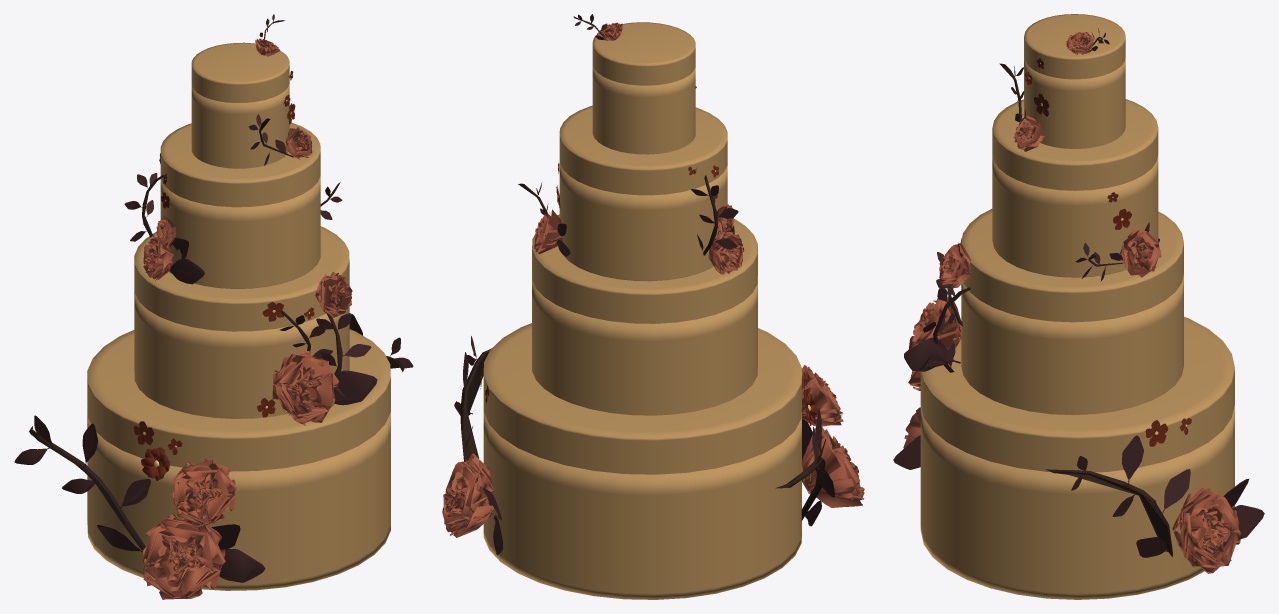
The model's file is 4-tier-caramel-roses-none.glb.
3 renders of one model, left to right at view 1: azimuth 30°, elevation 25°; view 2: azimuth 150°, elevation 25°; view 3: azimuth 270°, elevation 25°, orthographic. The views are drawn at different scales.
Visible parts, largest first — view 1: 3.001, 3, 2, 1, grid.013, Plane.024, grid.016, grid.012, grid.015, Plane.009, Plane.022, Plane.042 (+7 smaller); view 2: 3.001, 3, 2, 1, grid.020, grid.013, Plane.008, Plane.024, grid.012, grid.017, Plane.023, grid.019; view 3: 3.001, 3, 2, 1, grid.020, Plane.008, grid.016, grid.019, Plane.009, grid.015, grid.021, Plane.042 (+3 smaller).
Boxes of the visible parts, x1,y1,x2,y2 form: 3.001: [87, 329, 390, 590]; 3: [134, 226, 349, 418]; 2: [160, 122, 320, 288]; 1: [191, 42, 289, 168]; grid.013: [142, 514, 225, 599]; Plane.024: [14, 415, 150, 552]; grid.016: [272, 351, 338, 425]; grid.012: [171, 458, 237, 527]; grid.015: [315, 272, 352, 317]; Plane.009: [333, 370, 377, 405]; Plane.022: [219, 549, 265, 582]; Plane.042: [316, 313, 371, 396]; 3.001: [483, 323, 801, 599]; 3: [532, 214, 757, 415]; 2: [559, 105, 727, 281]; 1: [592, 22, 695, 154]; grid.020: [442, 453, 496, 537]; grid.013: [802, 427, 864, 507]; Plane.008: [454, 336, 491, 461]; Plane.024: [775, 408, 834, 526]; grid.012: [802, 365, 843, 426]; grid.017: [708, 232, 744, 274]; Plane.023: [691, 175, 738, 255]; grid.019: [534, 209, 562, 254]; 3.001: [920, 316, 1234, 599]; 3: [961, 209, 1183, 415]; 2: [992, 99, 1158, 277]; 1: [1024, 14, 1125, 148]; grid.020: [1172, 487, 1240, 573]; Plane.008: [1046, 435, 1190, 557]; grid.016: [909, 296, 961, 349]; grid.019: [1119, 229, 1161, 277]; Plane.009: [904, 337, 960, 371]; grid.015: [939, 243, 970, 288]; grid.021: [1013, 116, 1045, 151]; Plane.042: [920, 287, 970, 372].
Size of the model in its own units: 6.25 by 7.85 by 5.05.
